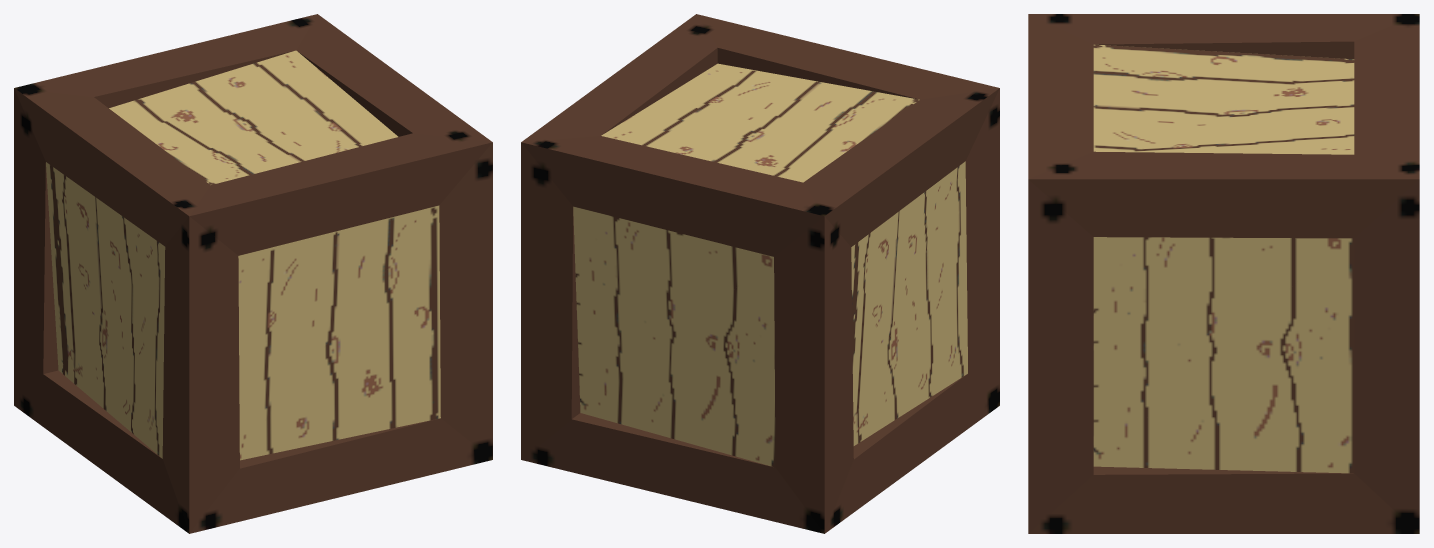
The picture shows the model from 3 angles, left to right: view 1: azimuth 30°, elevation 25°; view 2: azimuth 150°, elevation 25°; view 3: azimuth 270°, elevation 25°; orthographic projection. The views are drawn at different scales.
Visible parts, largest first — view 1: лод 1; view 2: лод 1; view 3: лод 1.
Boxes of the visible parts, x1,y1,x2,y2 form: лод 1: [14, 14, 492, 533]; лод 1: [521, 14, 999, 533]; лод 1: [1028, 14, 1419, 533].
Size of the model in its own units: 200 by 200 by 200.
